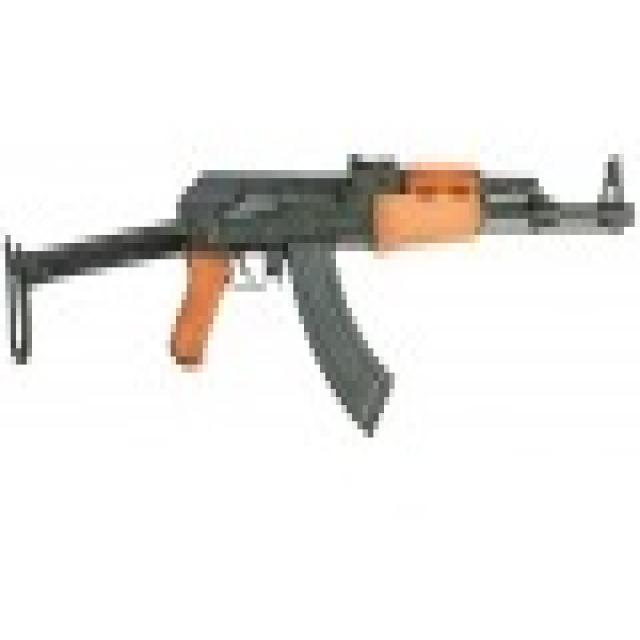Gun: (54, 90, 640, 354)
